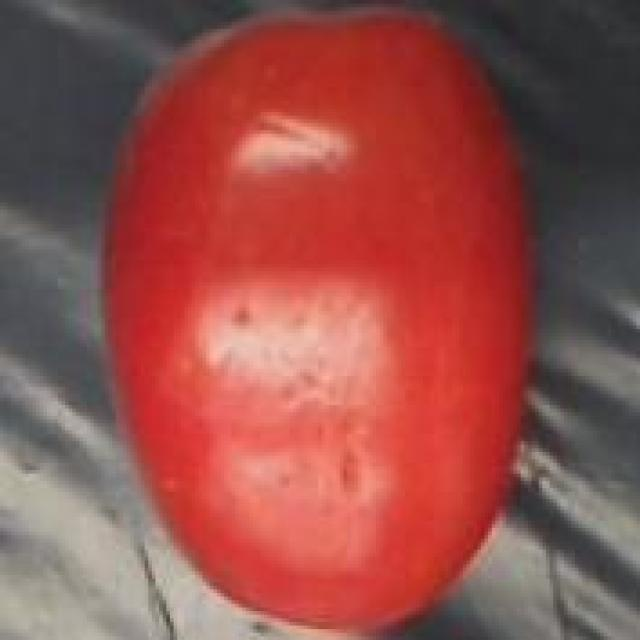overripe tomato: (87, 3, 546, 640)
